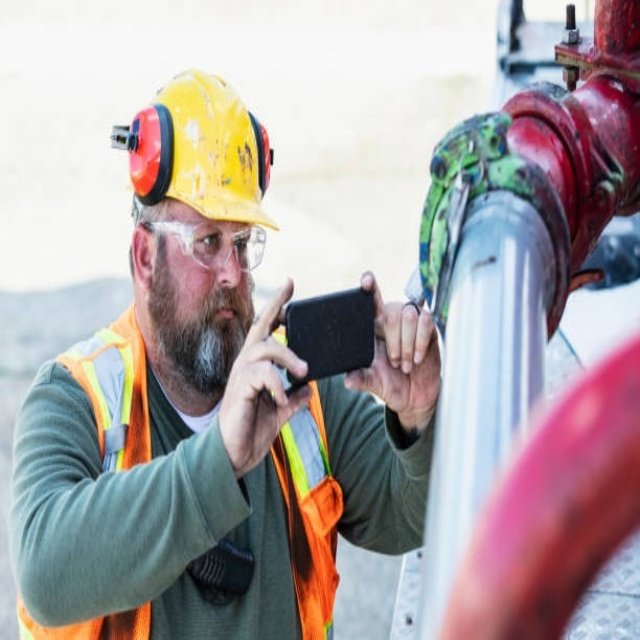Gafas: (138, 211, 267, 277)
Sin_guantes: (223, 278, 319, 478), (340, 268, 442, 423)
Sin_mascara: (207, 292, 238, 327)
